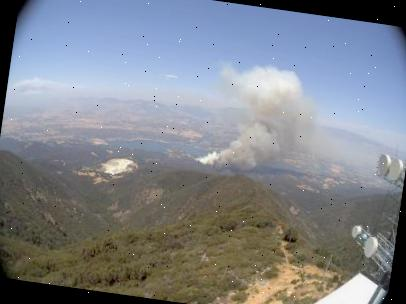smoke: (186, 51, 332, 182)
